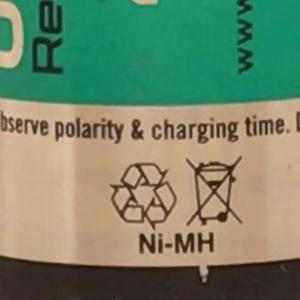keyword: (129, 222, 224, 264)
